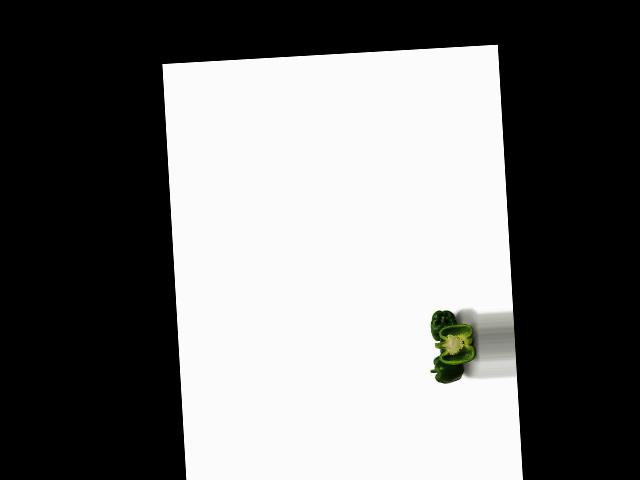bell_pepper: (426, 306, 461, 344)
